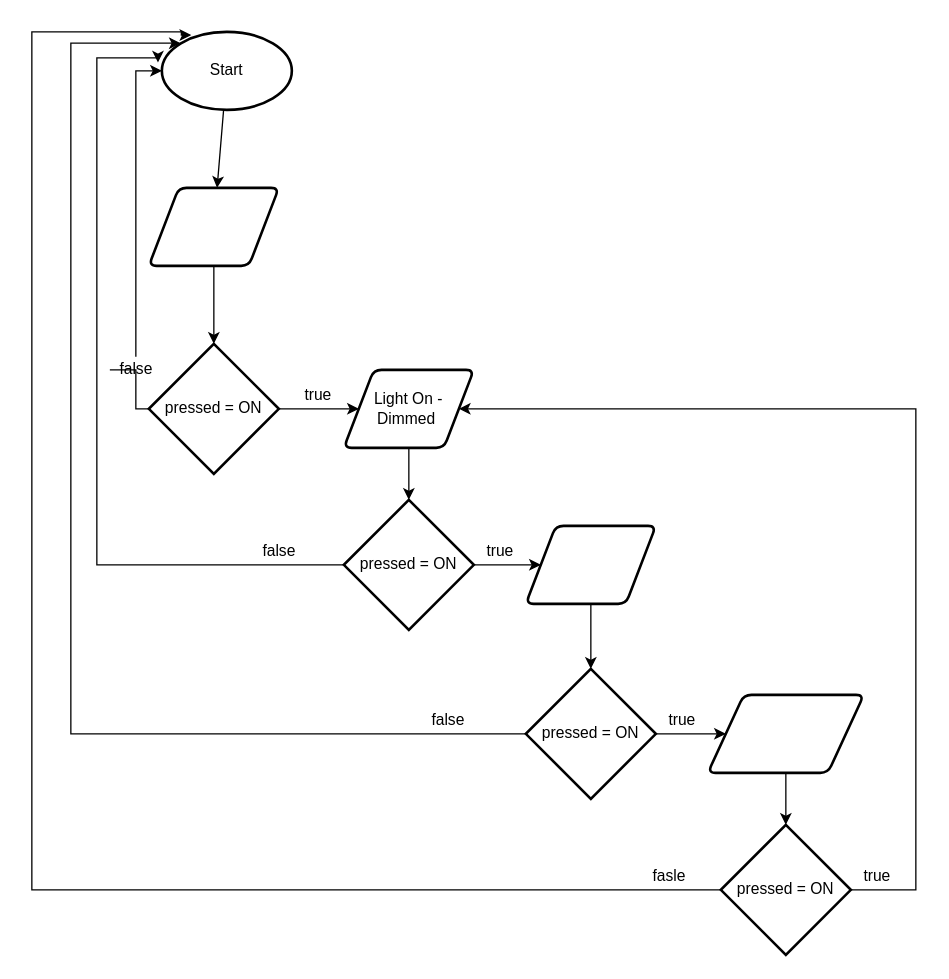
Some shapes in this 949 by 979 pixel diagram are drawn without their labels. The box of each missing label's shape, as (x1, y1, x2, y2) in pixels:
Light Off: (147, 186, 280, 266)
Light On - Bright: (706, 693, 864, 774)
Light On - Medium: (524, 524, 656, 604)
